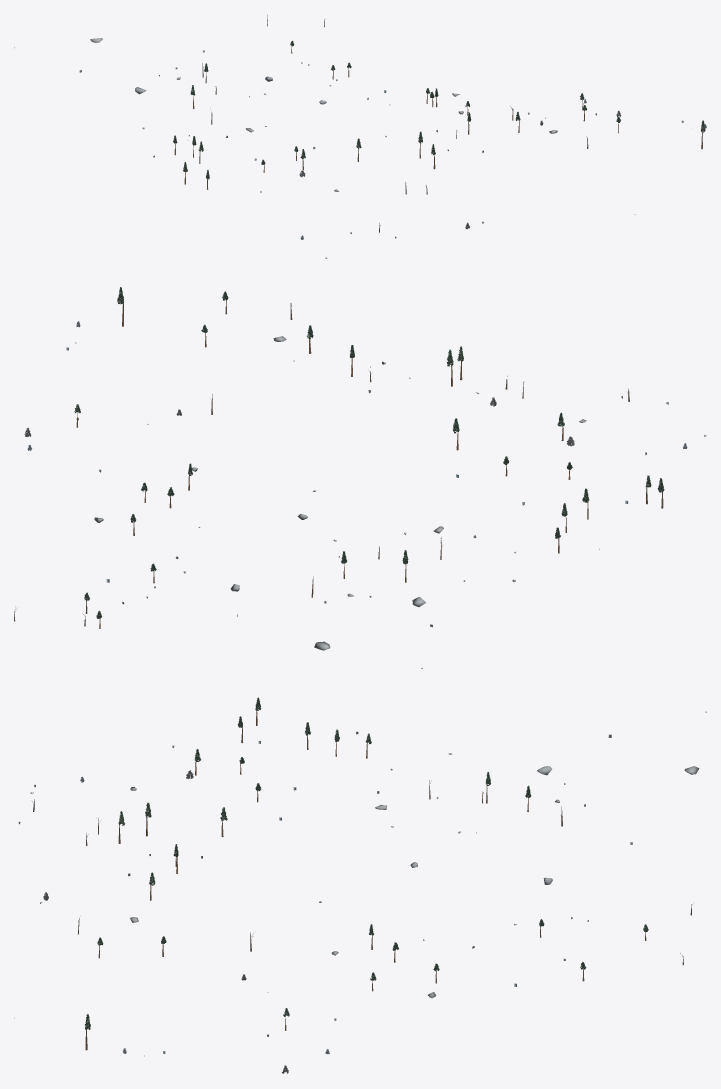
Rendered from frost_land_scatter_c13_12_lod1.glb.
3 views of the same model, one above another, from view 1: azimuth 30°, elevation 25°; view 2: azimuth 150°, elevation 25°; view 3: azimuth 270°, elevation 25° (orthographic). The views are drawn at different scales.
Parts seen in each view (by area): view 1: frost_land_scatter_c13_12_lod1; view 2: frost_land_scatter_c13_12_lod1; view 3: frost_land_scatter_c13_12_lod1.
Part boxes in pixels (x1=…): frost_land_scatter_c13_12_lod1: x1=14, y1=15, x2=706, y2=258; frost_land_scatter_c13_12_lod1: x1=14, y1=287, x2=706, y2=668; frost_land_scatter_c13_12_lod1: x1=14, y1=697, x2=706, y2=1073.
Bounding box in the file's own units: 254 × 46.45 × 246.
